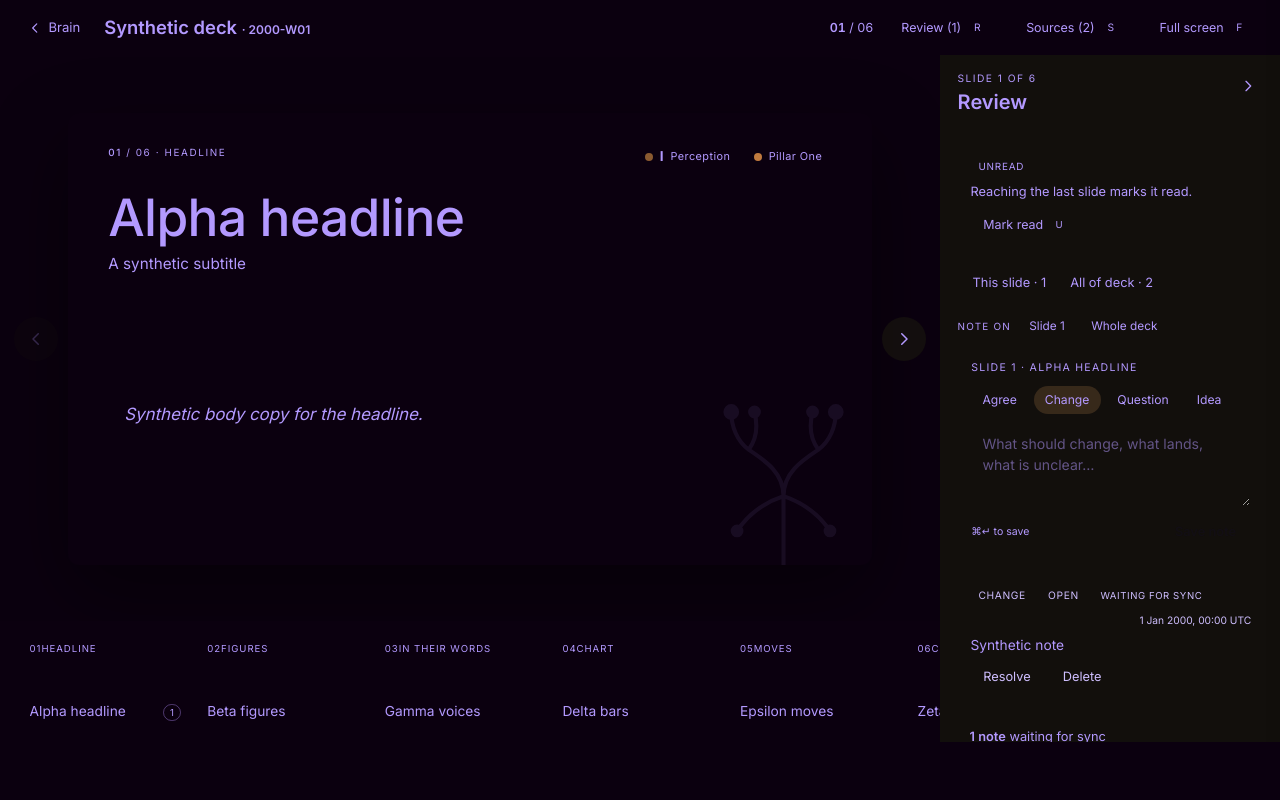
Test: DeckPresenter reading workflow › shows a collapsible review sidebar with notes and their brain sync status
Expected: the text "Synthetic note" is shown, left=970, top=637, right=1064, bottom=653
Expected: the text "Waiting for sync" is shown, left=1100, top=590, right=1202, bottom=601
Click the tab "All of deck · 2" at [1112, 283], box left=1058, top=267, right=1165, bottom=299
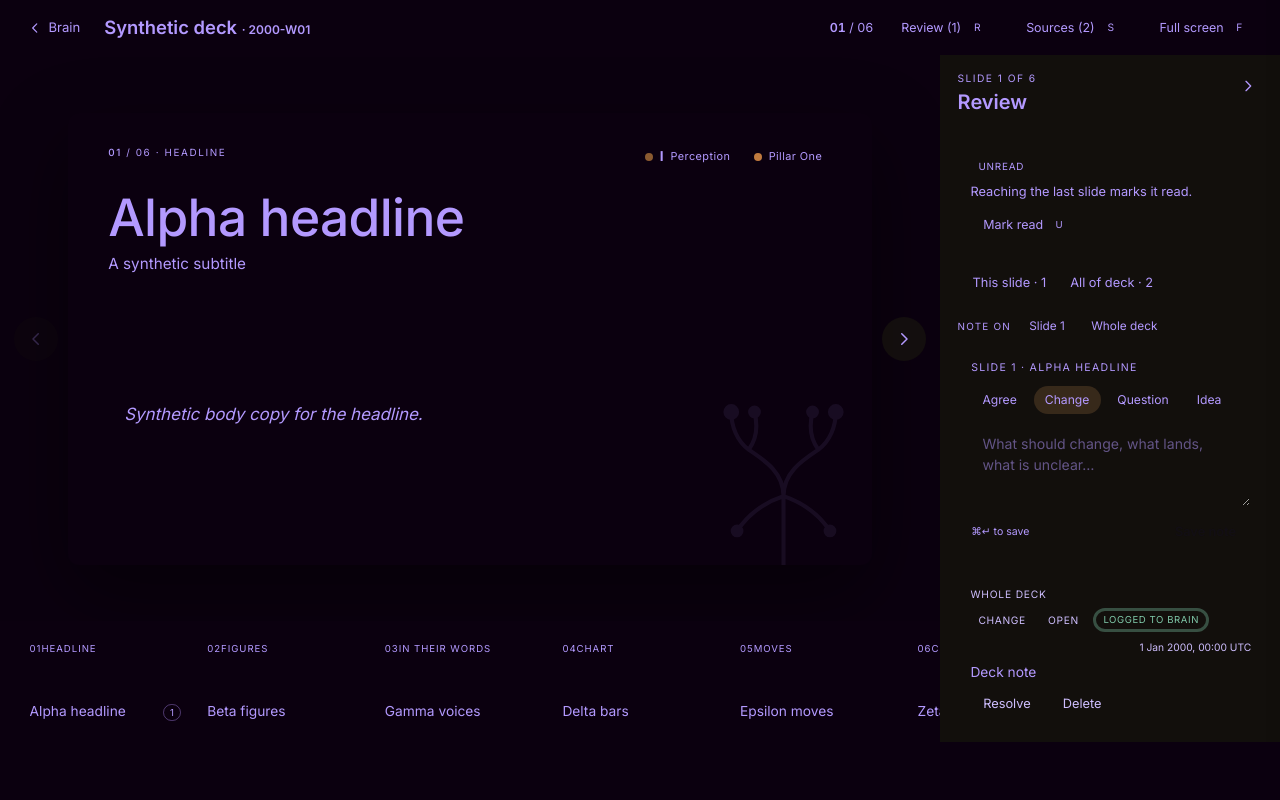
Now the text "Deck note" is shown, box left=970, top=664, right=1036, bottom=680
Now the text "Logged to brain" is shown, box left=1093, top=608, right=1209, bottom=632
Now the list item "Deck note" shows "Whole deck", box left=970, top=588, right=1047, bottom=600
Click the button named "Collapse review sidebar" at [1248, 86], box left=1232, top=70, right=1264, bottom=102
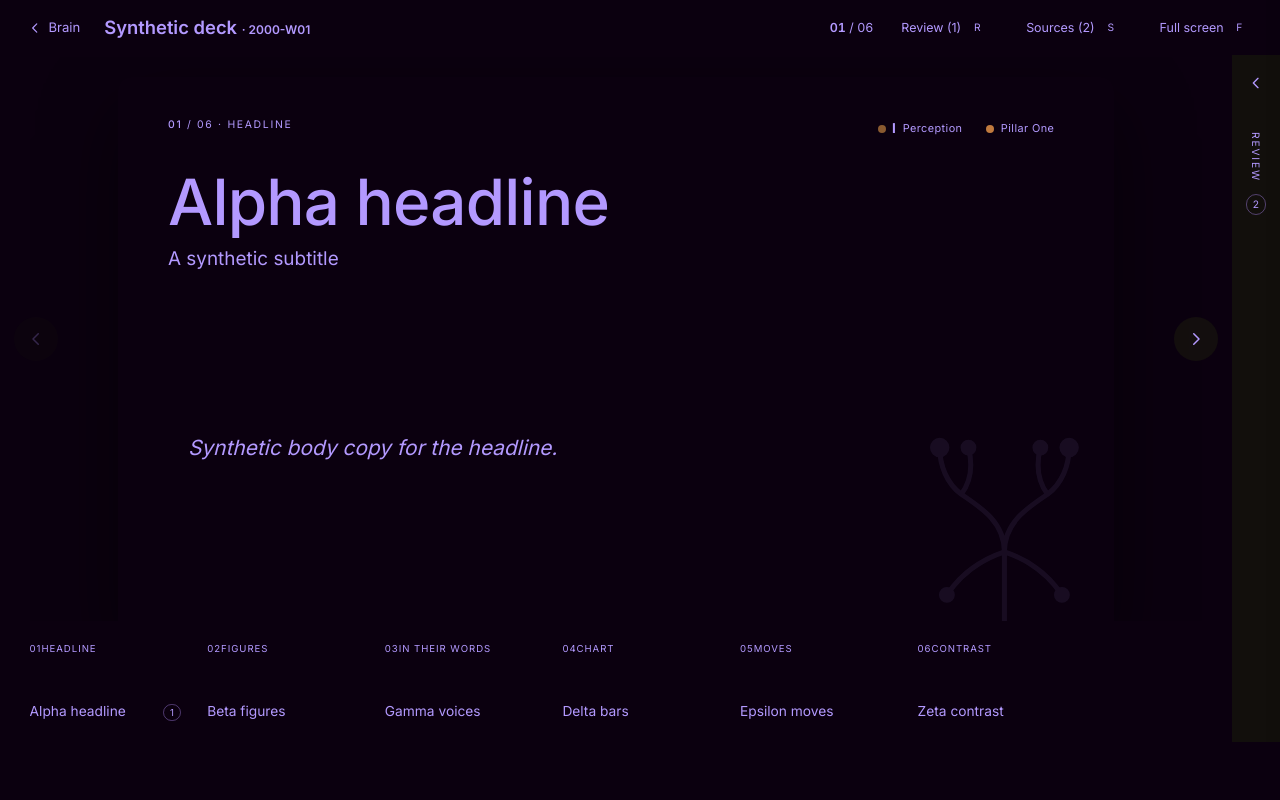
Expected: the text "Synthetic note" is not shown
Press r
(page scrolled)
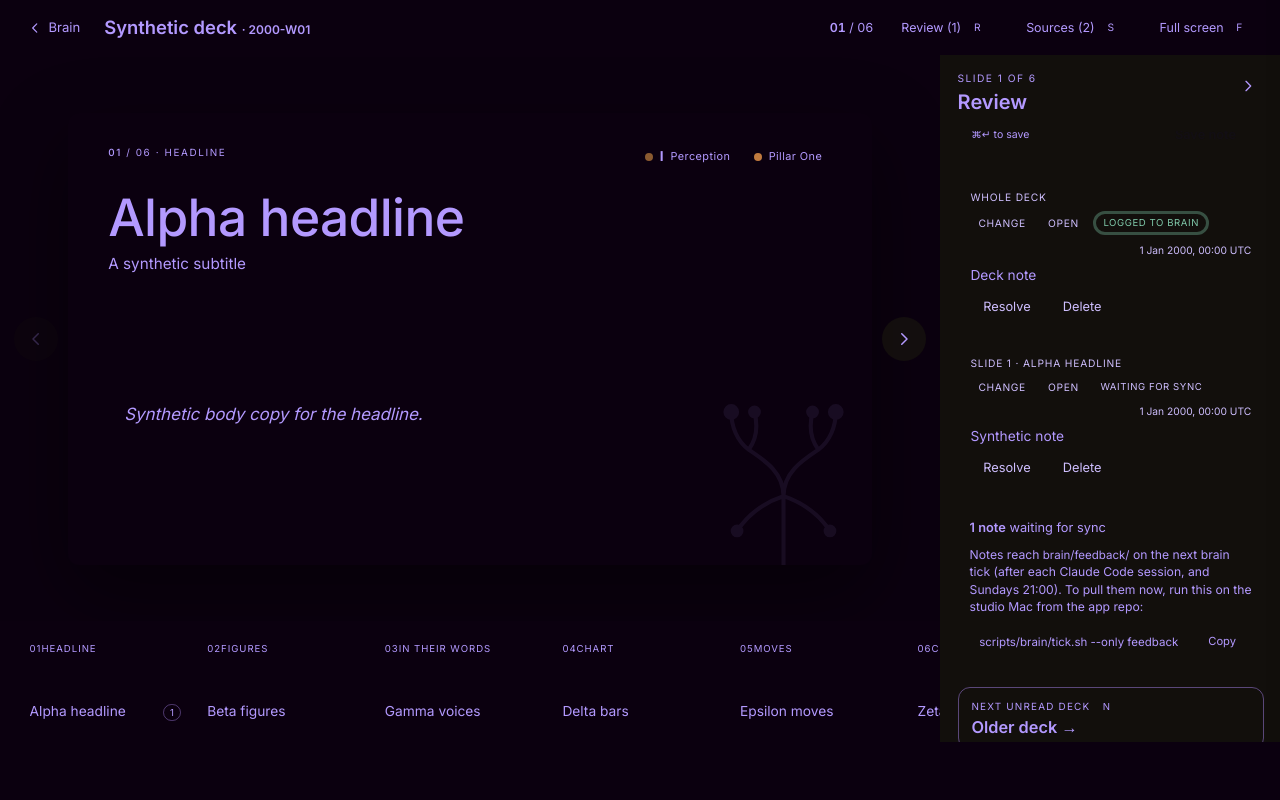
Now the text "Synthetic note" is shown, box left=970, top=428, right=1064, bottom=444
